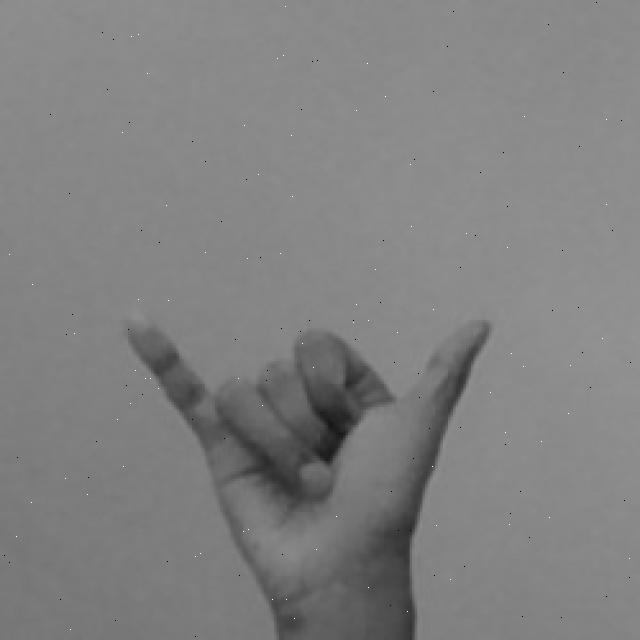Y: (108, 292, 500, 640)
